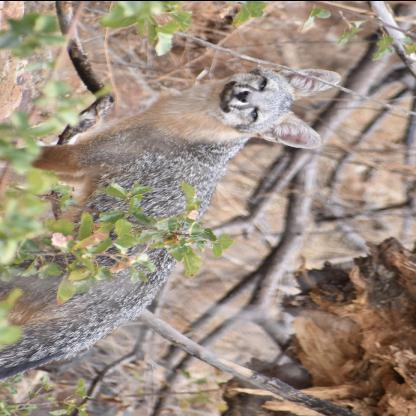zorro: (1, 60, 344, 387)
